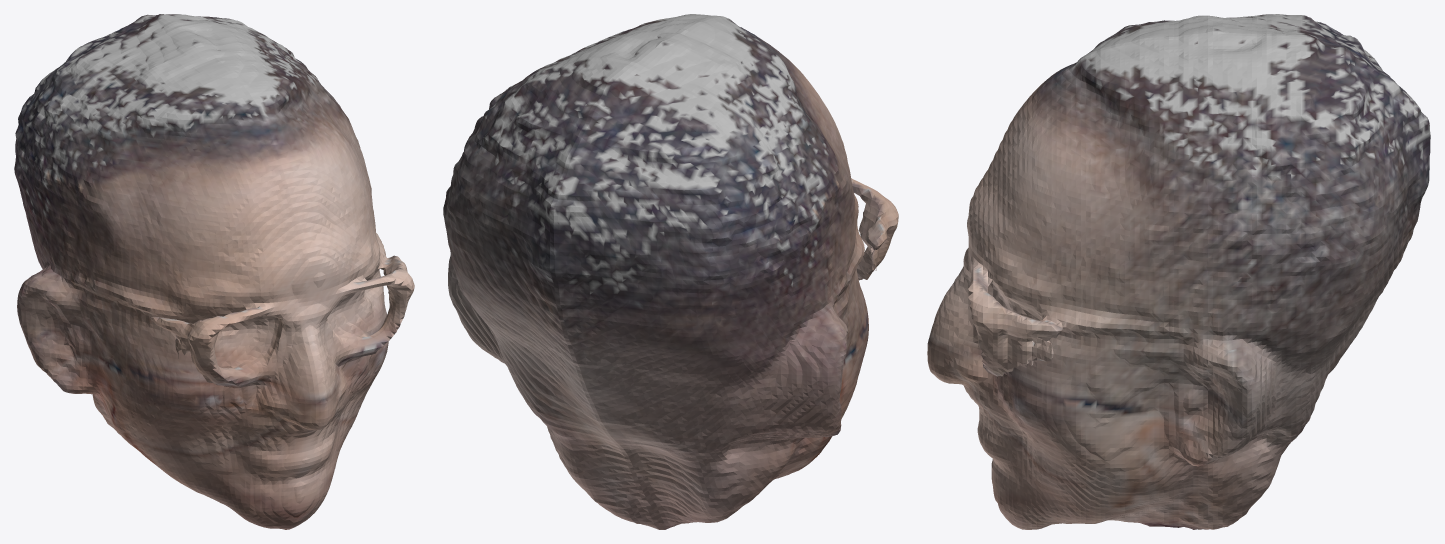
File: gauci_head.glb
3 views of the same model, side by side, from view 1: azimuth 30°, elevation 25°; view 2: azimuth 150°, elevation 25°; view 3: azimuth 270°, elevation 25° (orthographic). The views are drawn at different scales.
Visible parts, largest first — view 1: geometry_0; view 2: geometry_0; view 3: geometry_0.
Part boxes in pixels (x1,y1,x2,y2): geometry_0: [14, 14, 414, 529]; geometry_0: [443, 14, 898, 529]; geometry_0: [927, 14, 1430, 529].
Bounding box in the file's own units: 0.3704 × 0.445 × 0.4124.
